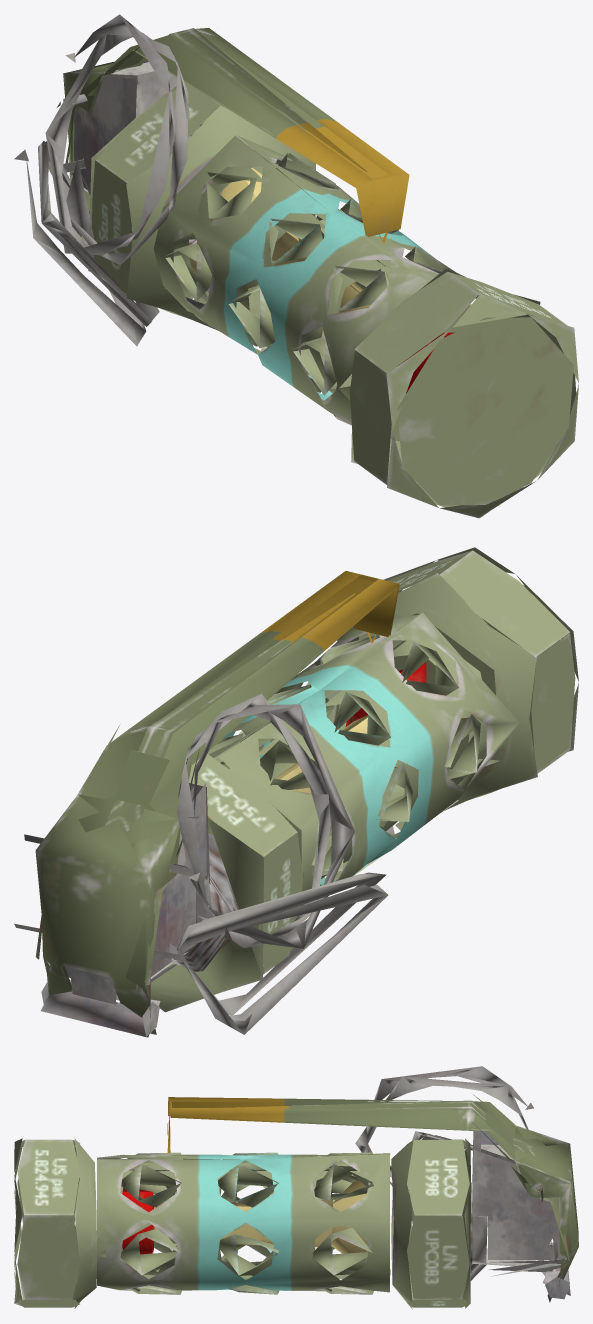
File: flashbang.glb
The picture shows the model from 3 angles, top to bottom: view 1: azimuth 30°, elevation 25°; view 2: azimuth 150°, elevation 25°; view 3: azimuth 270°, elevation 25°; orthographic projection. The views are drawn at different scales.
Parts seen in each view (by area): view 1: flashbang; view 2: flashbang; view 3: flashbang.
Part boxes in pixels (x1,y1,x2,y2): flashbang: (14,14,578,518); flashbang: (14,547,578,1037); flashbang: (14,1066,578,1309).
Size of the model in its own units: 0.0562 by 0.0604 by 0.1317.
1 material, 1 textured.
